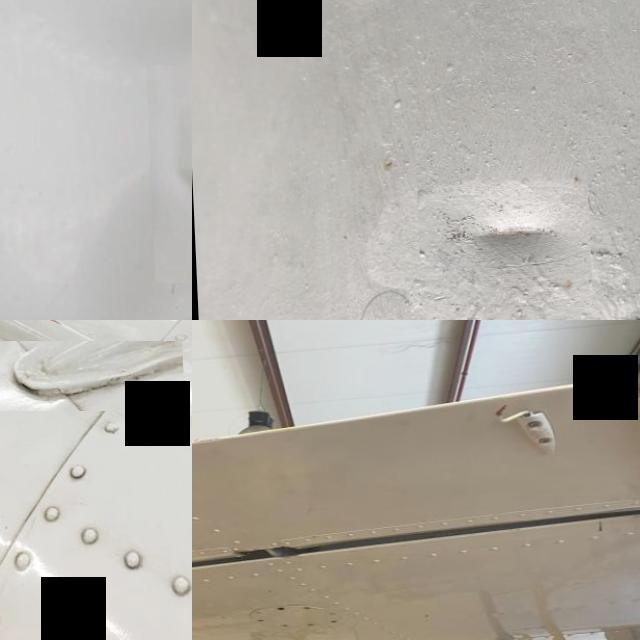Crack: (0, 340, 181, 411)
Dent: (412, 131, 589, 307), (145, 65, 192, 278)
Missing_Fastener: (272, 606, 281, 612), (324, 620, 333, 624)
